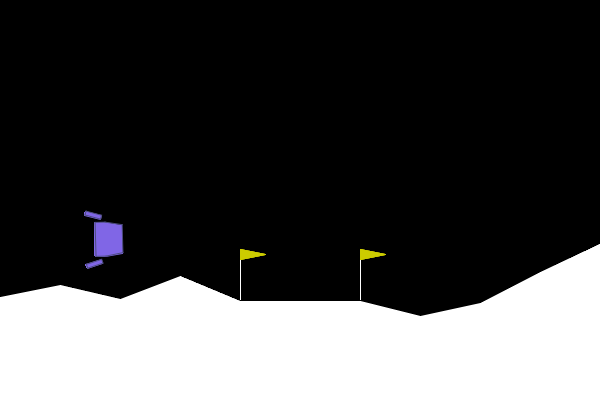lander: (83, 209, 125, 270)
